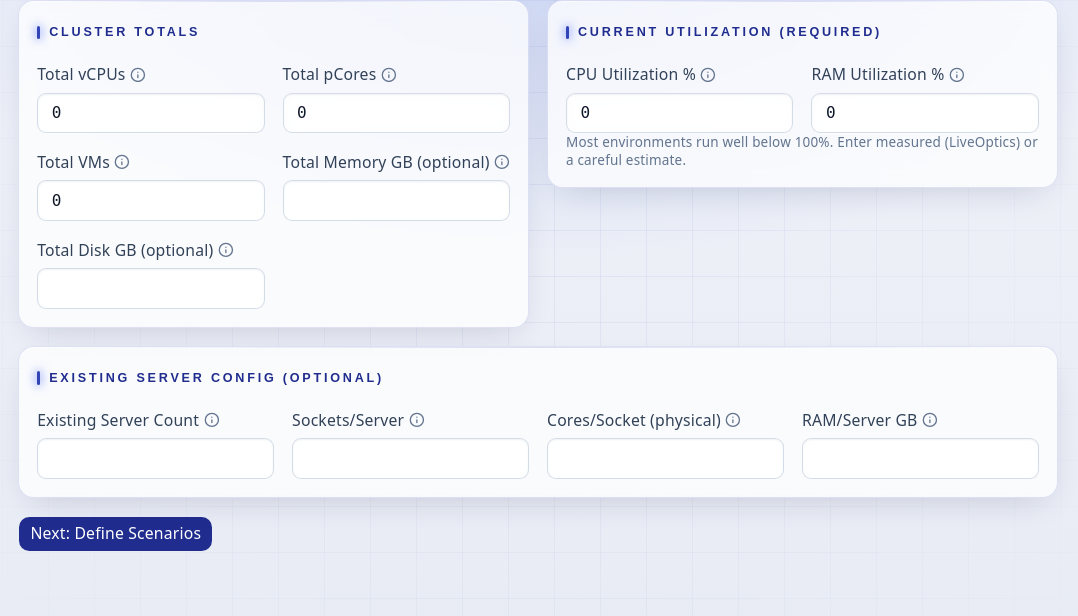
Test: REPT-02: unconditional existingServerCount and totalPcores auto-derive › auto-derives totalPcores when existingServerCount, socketsPerServer, and coresPerSocket are all provided
The image size is (1078, 616).
Type "10" into the number field with test id "input-existingServerCount" at {"x": 156, "y": 458}, box [37, 438, 274, 479]
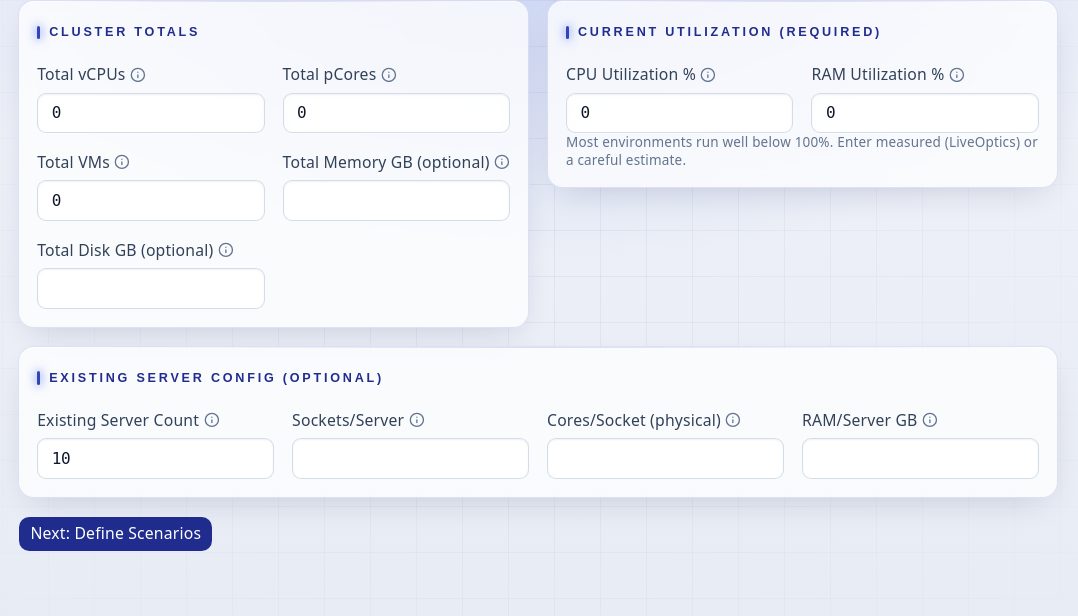
Type "2" into the number field with test id "input-socketsPerServer" at {"x": 411, "y": 458}, box [292, 438, 529, 479]
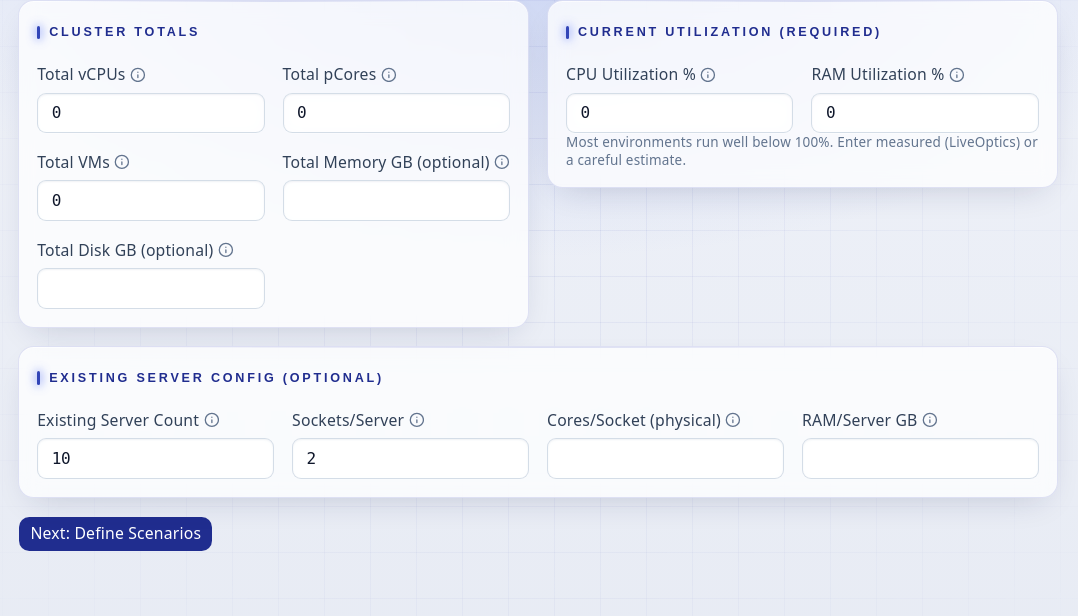
Type "24" into the number field with test id "input-coresPerSocket" at {"x": 665, "y": 458}, box [547, 438, 784, 479]
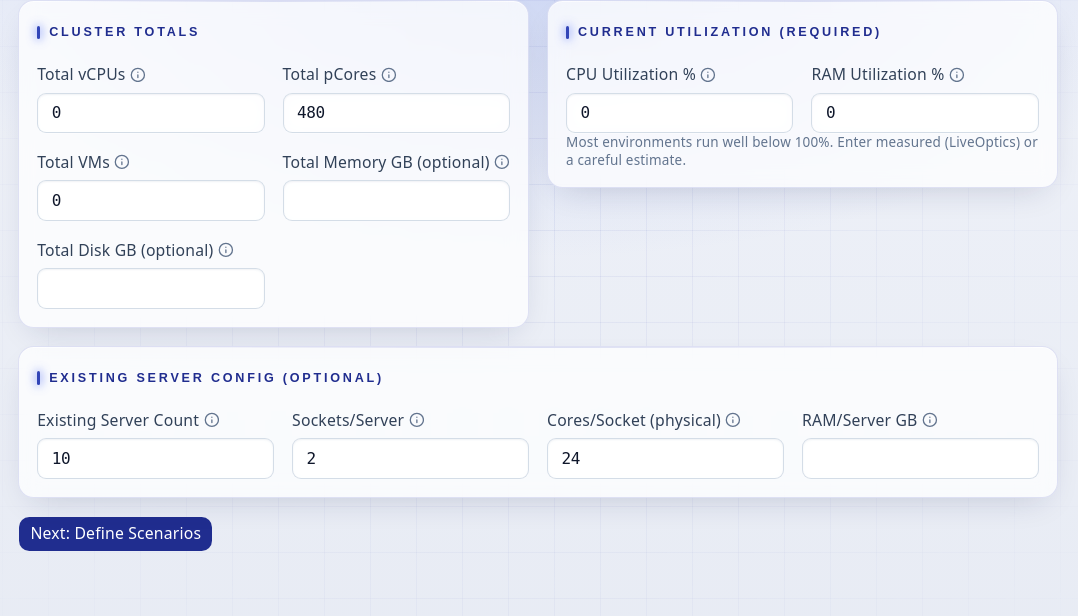
Expected: the number field with test id "input-totalPcores" holds "480", [283, 92, 510, 133]
